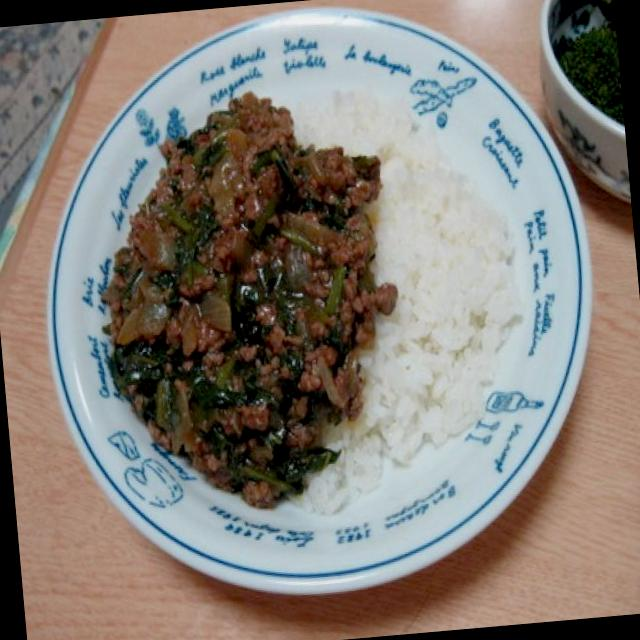Beef Curry: (98, 85, 406, 513)
Rice: (343, 73, 538, 473)
